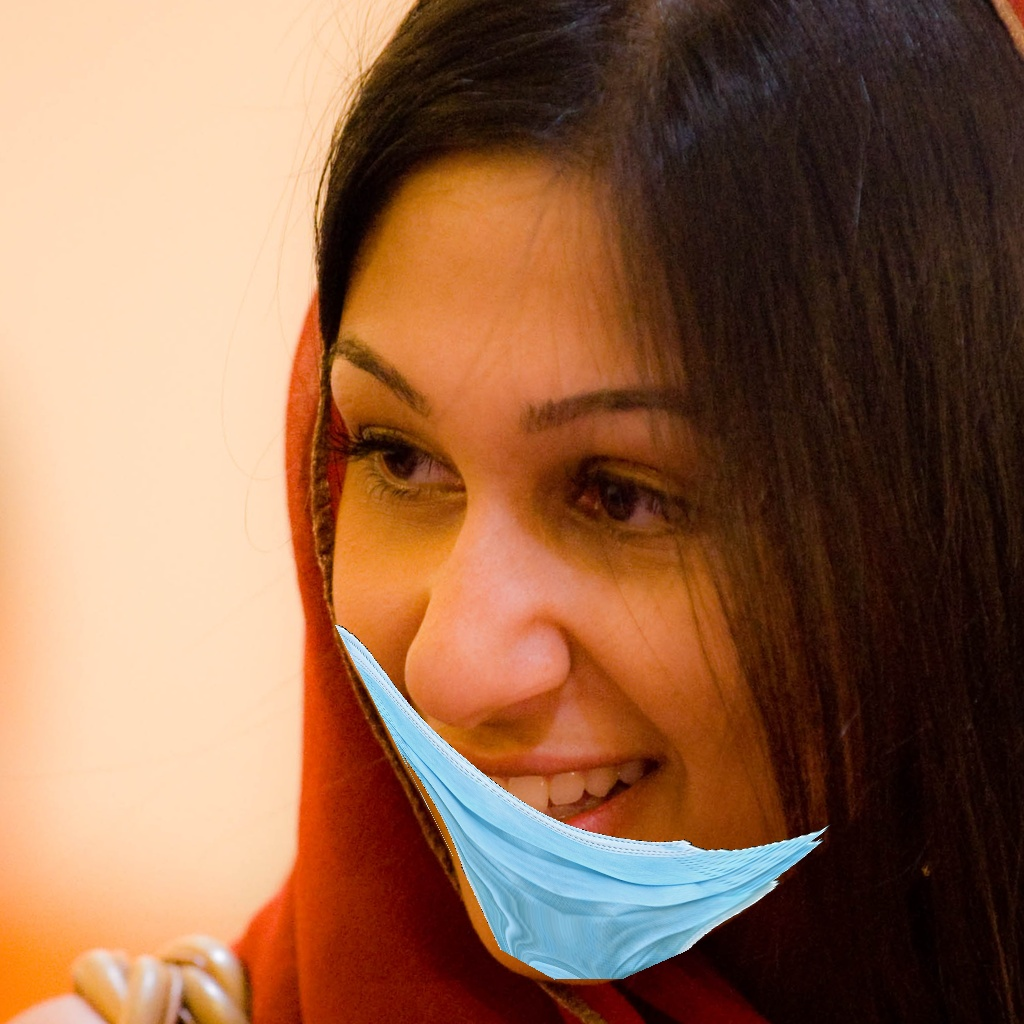mascarilla_mal_puesta: (299, 368, 837, 968)
